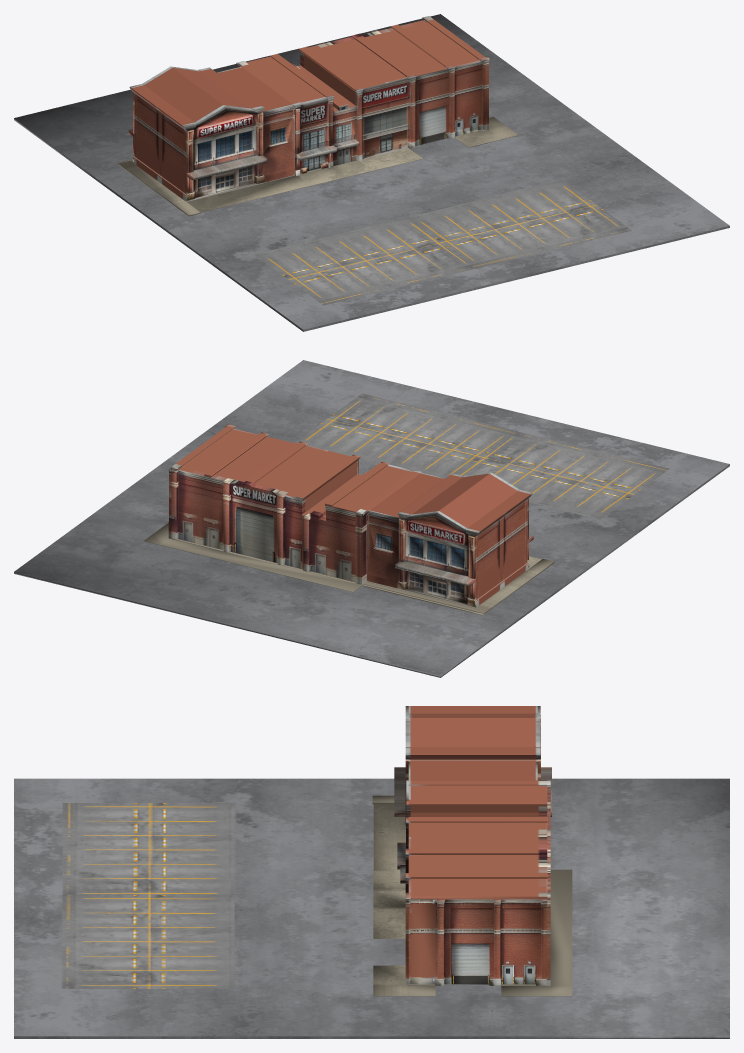
3 views of the same model, one above another, from view 1: azimuth 30°, elevation 25°; view 2: azimuth 150°, elevation 25°; view 3: azimuth 270°, elevation 25° (orthographic). The views are drawn at different scales.
Visible parts, largest first — view 1: Plane, foto1.001, foto1.002; view 2: Plane, foto1.001, foto1.002; view 3: Plane, foto1.001, foto1.002.
Part boxes in pixels (bbox=[...]): Plane: bbox=[14, 14, 729, 331]; foto1.001: bbox=[128, 16, 489, 201]; foto1.002: bbox=[117, 117, 518, 216]; Plane: bbox=[14, 360, 729, 677]; foto1.001: bbox=[168, 424, 533, 607]; foto1.002: bbox=[144, 523, 554, 615]; Plane: bbox=[14, 778, 729, 1038]; foto1.001: bbox=[394, 706, 551, 985]; foto1.002: bbox=[372, 795, 572, 996].
Size of the model in its own units: 1049 by 212 by 1233.
5 materials, 5 textured.
